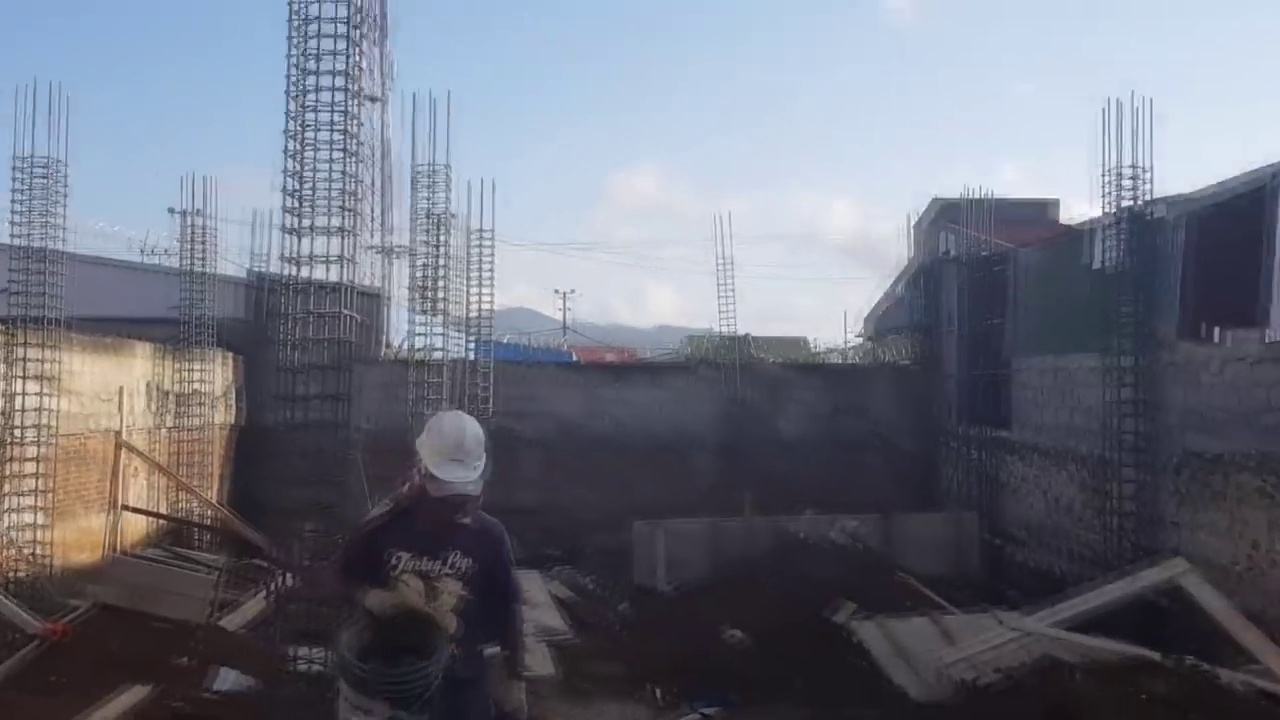helmet: (414, 409, 488, 485)
helmet-on: (401, 408, 490, 519)
person: (334, 407, 530, 718)
